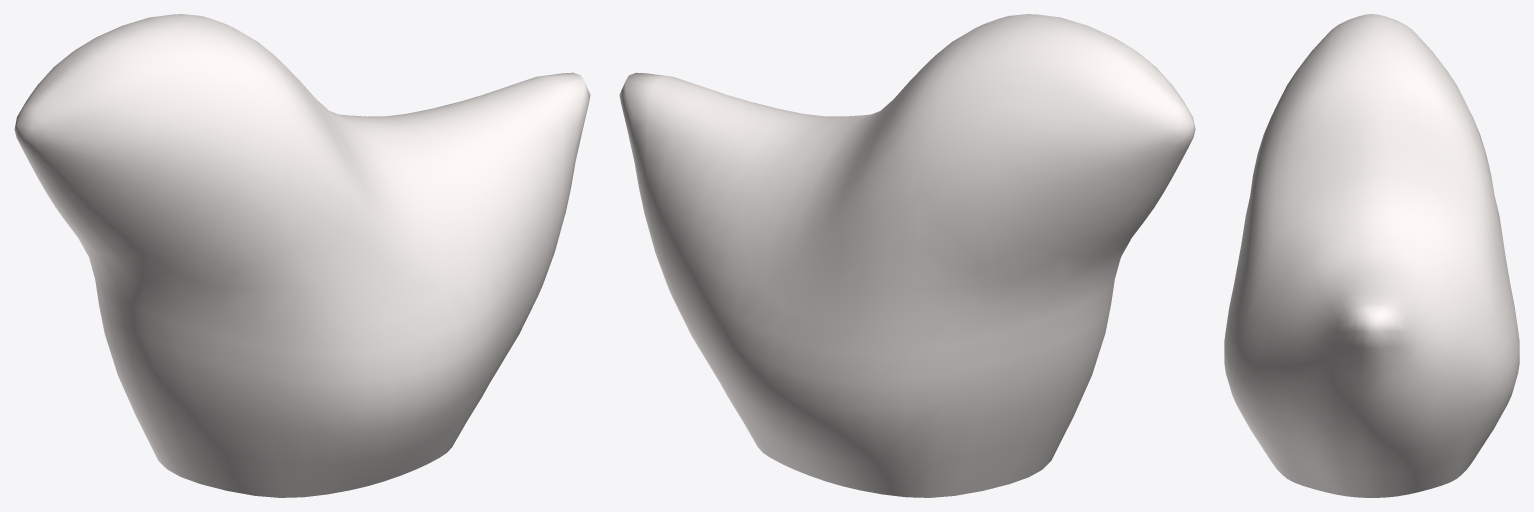
Rendered from GOT7_03.glb.
The picture shows the model from 3 angles, left to right: view 1: azimuth 30°, elevation 25°; view 2: azimuth 150°, elevation 25°; view 3: azimuth 270°, elevation 25°; orthographic projection. The views are drawn at different scales.
Size of the model in its own units: 0.247 by 0.1837 by 0.1383.
Materials: 1 (1 with a texture image).
